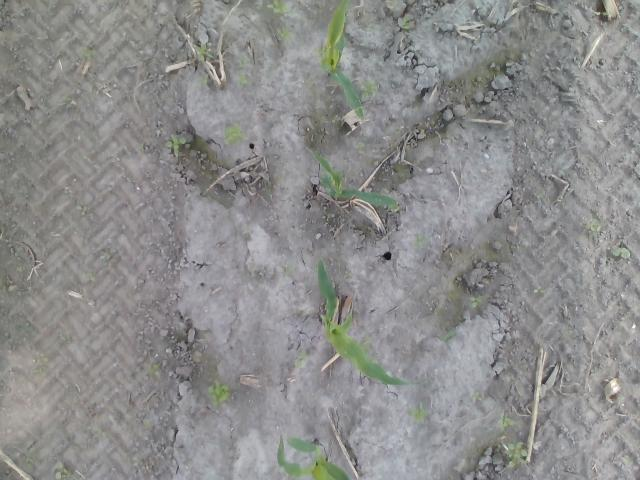Maize: (315, 255, 422, 386), (305, 144, 399, 212), (319, 0, 366, 122), (276, 430, 353, 480)
Weeds: (204, 381, 232, 408), (164, 134, 187, 160), (506, 440, 527, 467), (221, 125, 243, 146), (238, 54, 252, 87), (406, 404, 429, 423), (357, 78, 379, 96), (610, 244, 630, 260), (146, 361, 164, 377), (398, 14, 416, 30), (270, 0, 290, 14), (273, 27, 290, 43), (54, 461, 68, 480), (438, 328, 455, 342), (412, 232, 426, 249), (197, 75, 212, 90), (499, 416, 515, 430), (195, 44, 208, 61), (80, 46, 98, 58), (24, 446, 33, 470), (469, 294, 484, 308), (293, 351, 304, 368), (32, 366, 48, 377), (385, 0, 402, 10), (92, 426, 106, 438), (75, 205, 89, 216), (470, 390, 482, 402), (590, 220, 602, 232), (143, 419, 154, 431), (447, 291, 458, 302), (280, 262, 292, 272), (356, 142, 365, 155), (316, 46, 326, 56), (532, 286, 544, 294), (520, 50, 528, 61), (344, 270, 353, 278)
